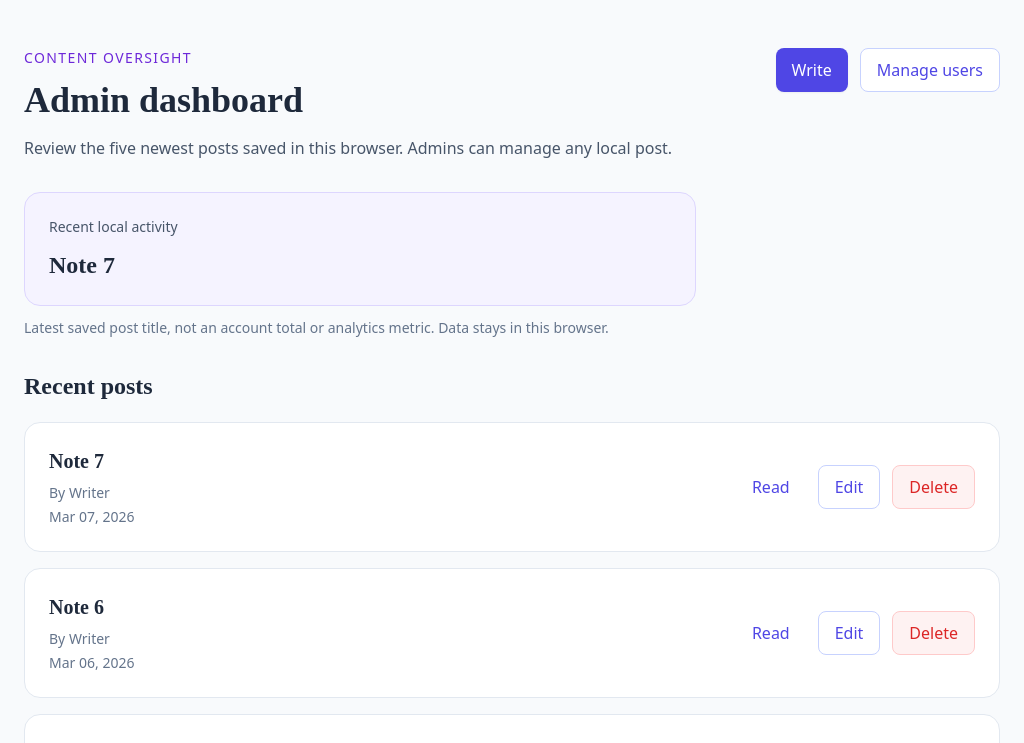
deletes any author post, preserves fresh unrelated data and refills the recent five
The image size is (1024, 743).
What coordinates should you click on to do the following:
click the button with aria-label "Delete Note 7"
I would click on:
 (934, 487)
Its box is x1=892 y1=465 x2=975 y2=509.
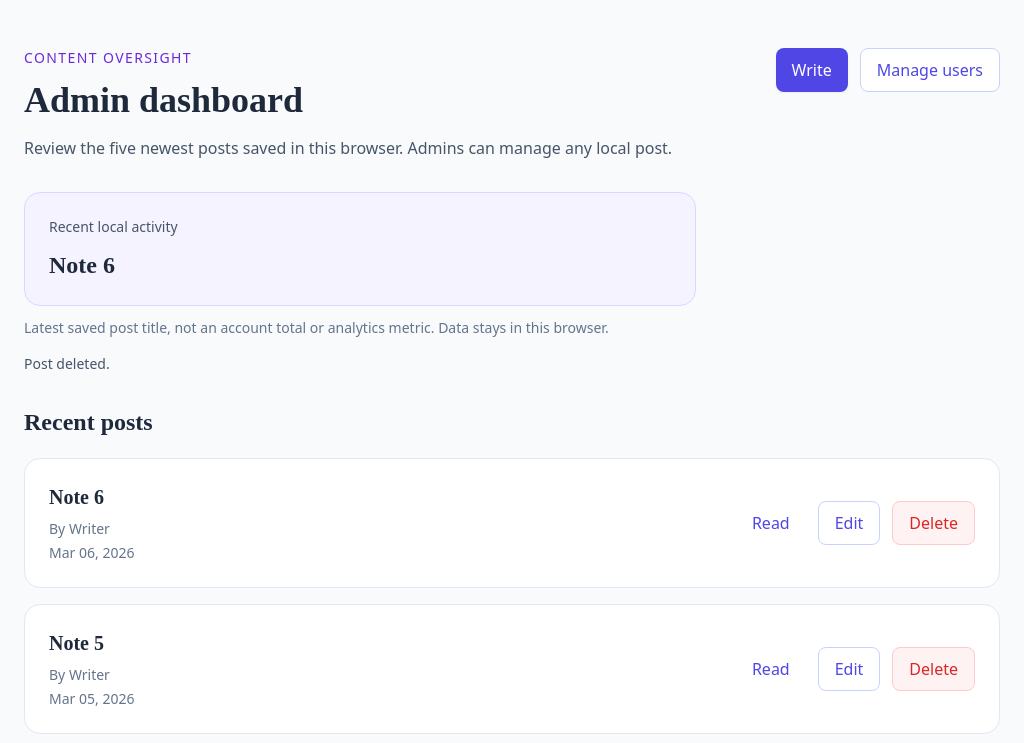
Now the text "Recent local activity" shows "Note 6", box x1=49 y1=252 x2=115 y2=278
Now the message reads "Post deleted.", box x1=24 y1=354 x2=110 y2=373
